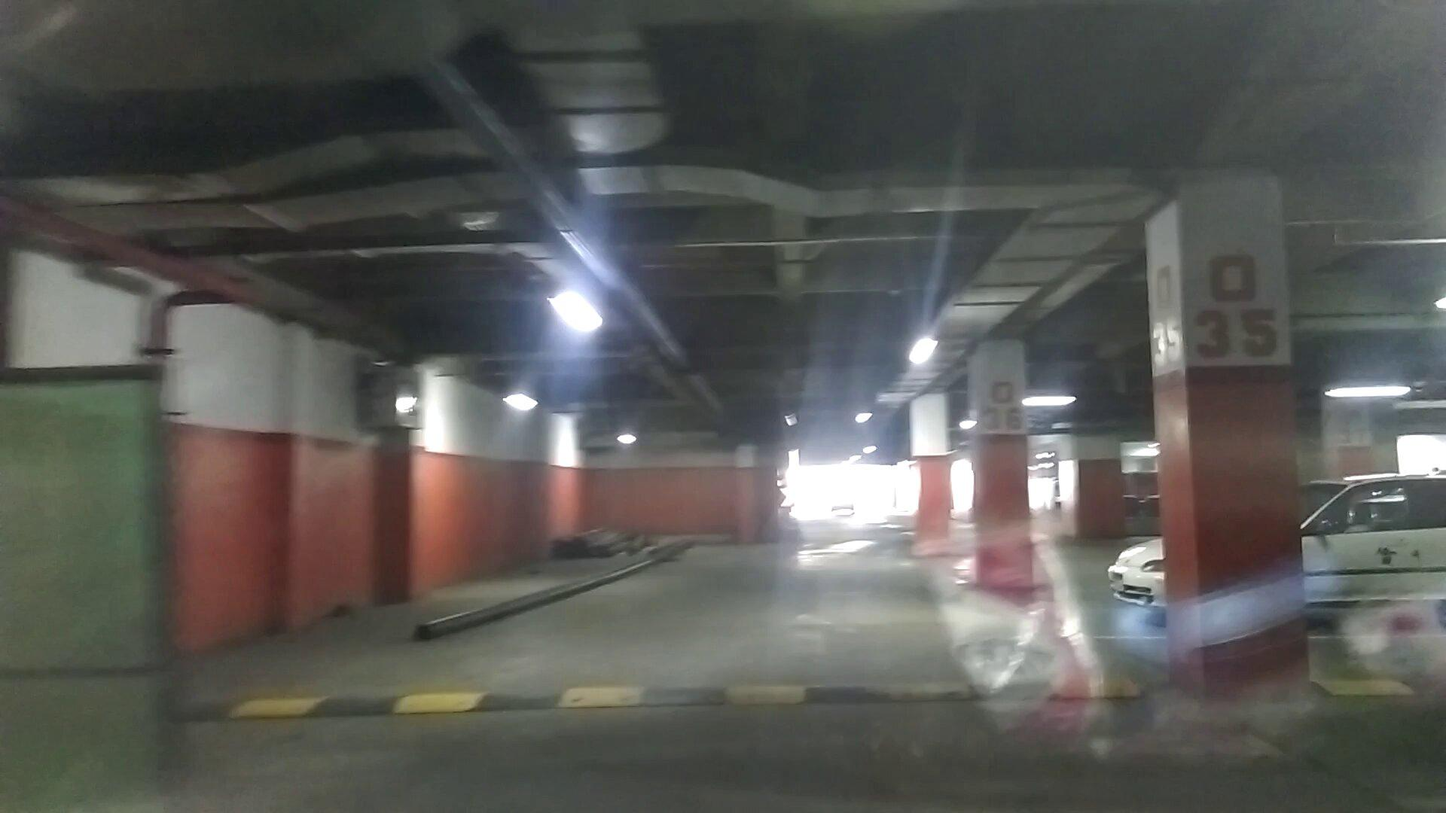Bump: (215, 685, 1173, 741)
